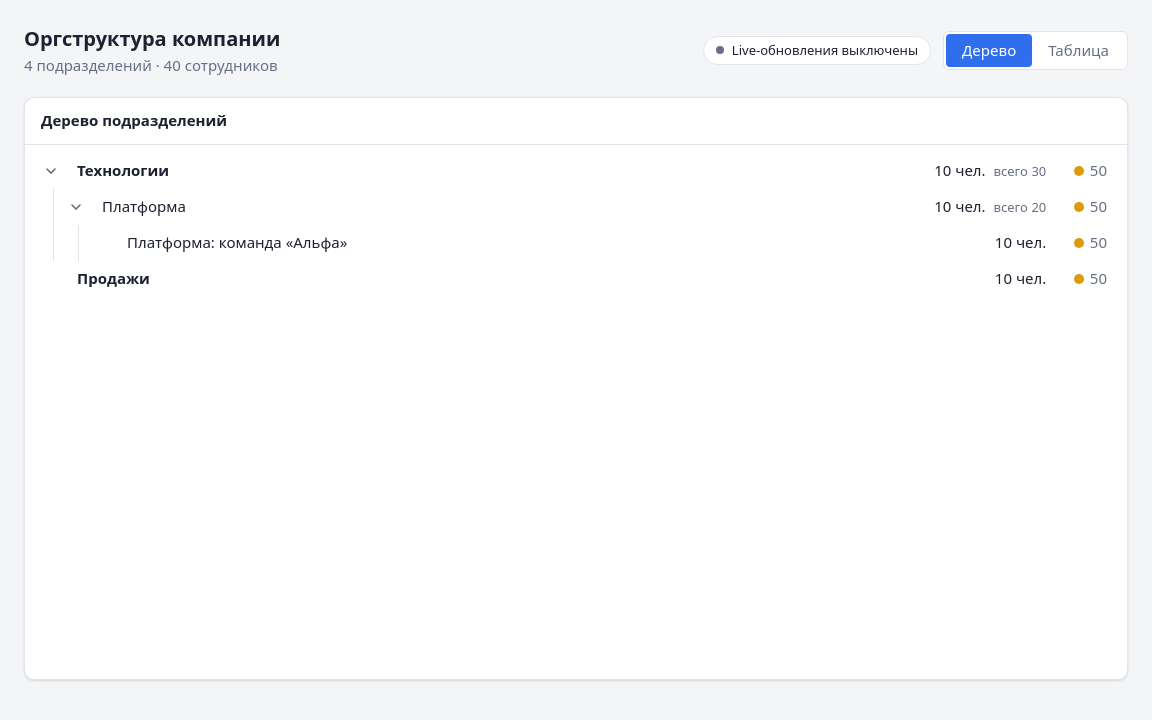
Dashboard: вкладки (<1280px) › рендерит только активную вкладку и сохраняет выбор и поиск при переключении
Expected: the list named "Оргструктура" is shown, [25,144,1127,304]
Click the button "Таблица". click: {"x": 1079, "y": 50}
box: [1032,34,1125,67]
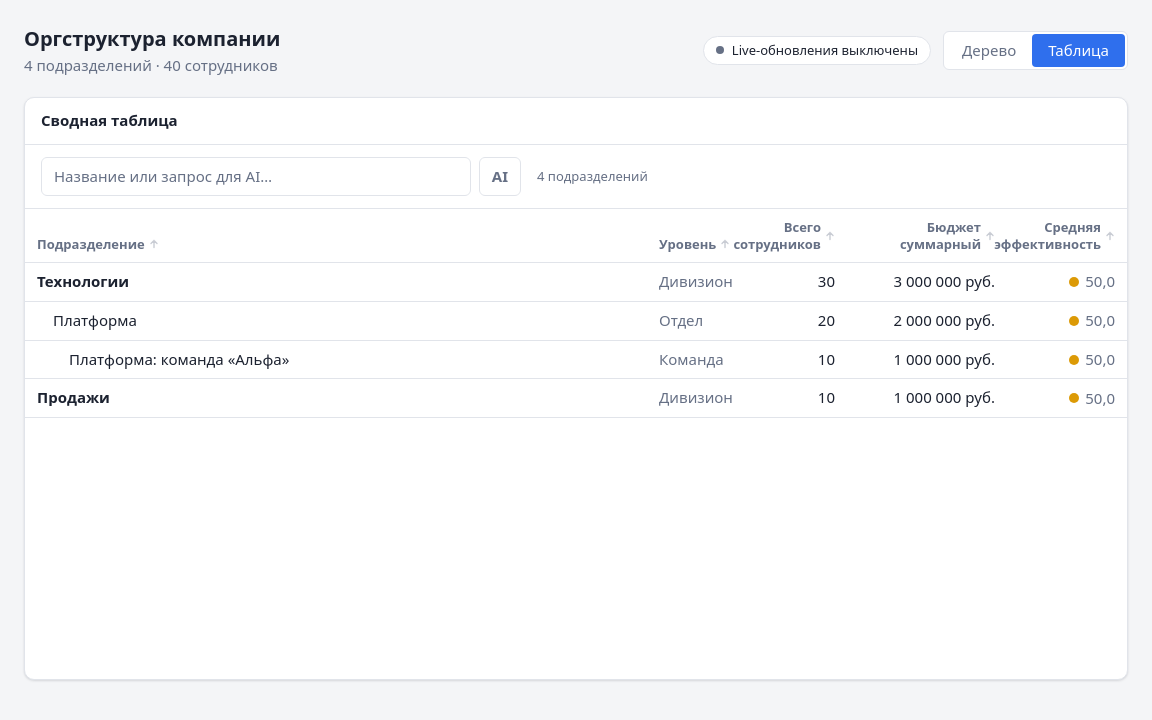
Type "альфа" into the search field. click: {"x": 256, "y": 176}
box: [41,156,471,196]
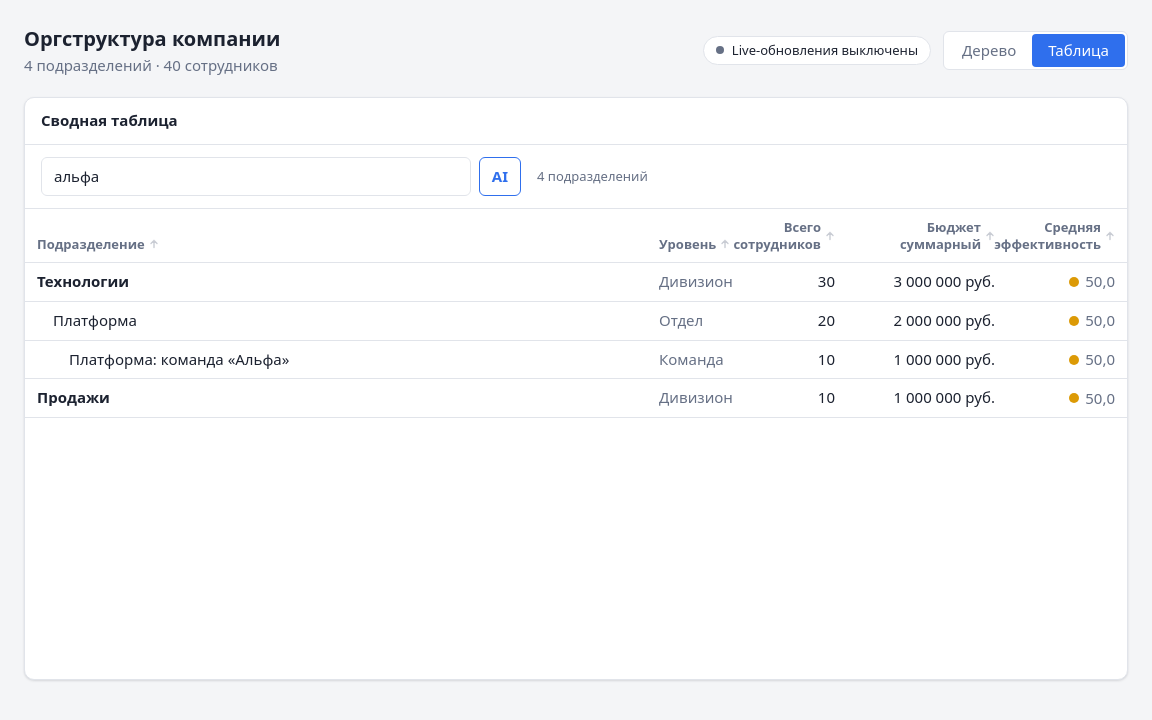
Click the cell "Платформа: команда «Альфа»". click: {"x": 336, "y": 360}
box: [25,340,647,379]
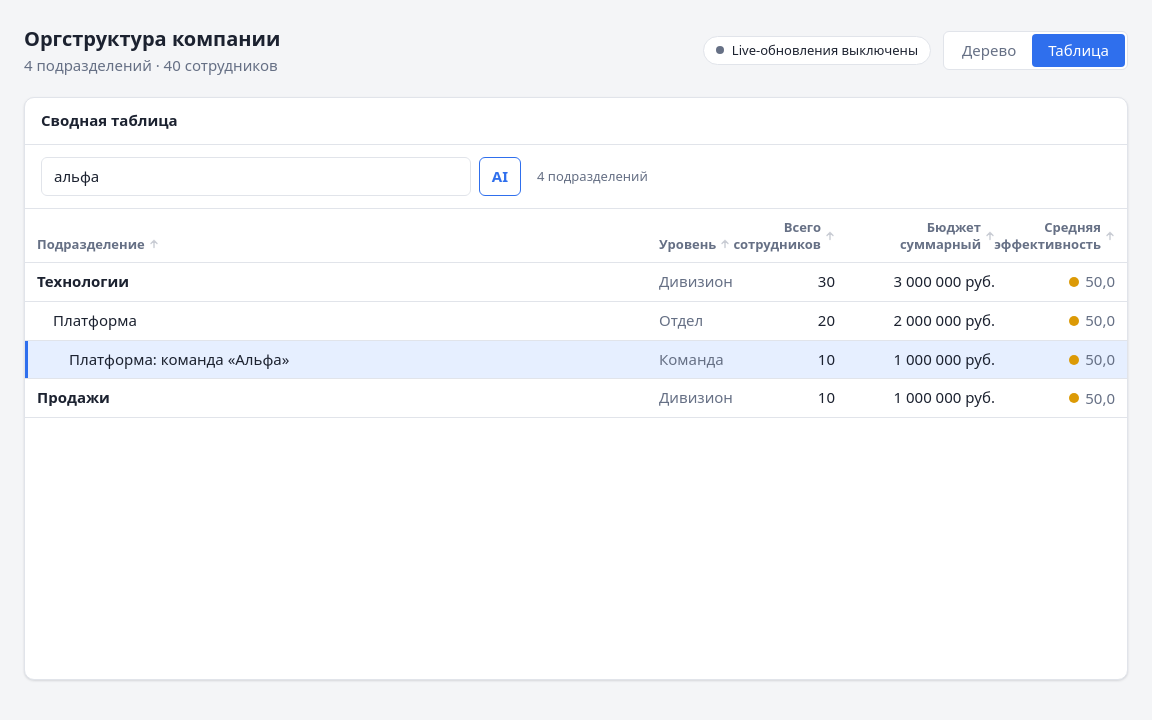
Expected: the button "Таблица" is pressed, [1032,34,1125,67]
Click the button "Дерево". click: {"x": 989, "y": 50}
box: [946,34,1032,67]
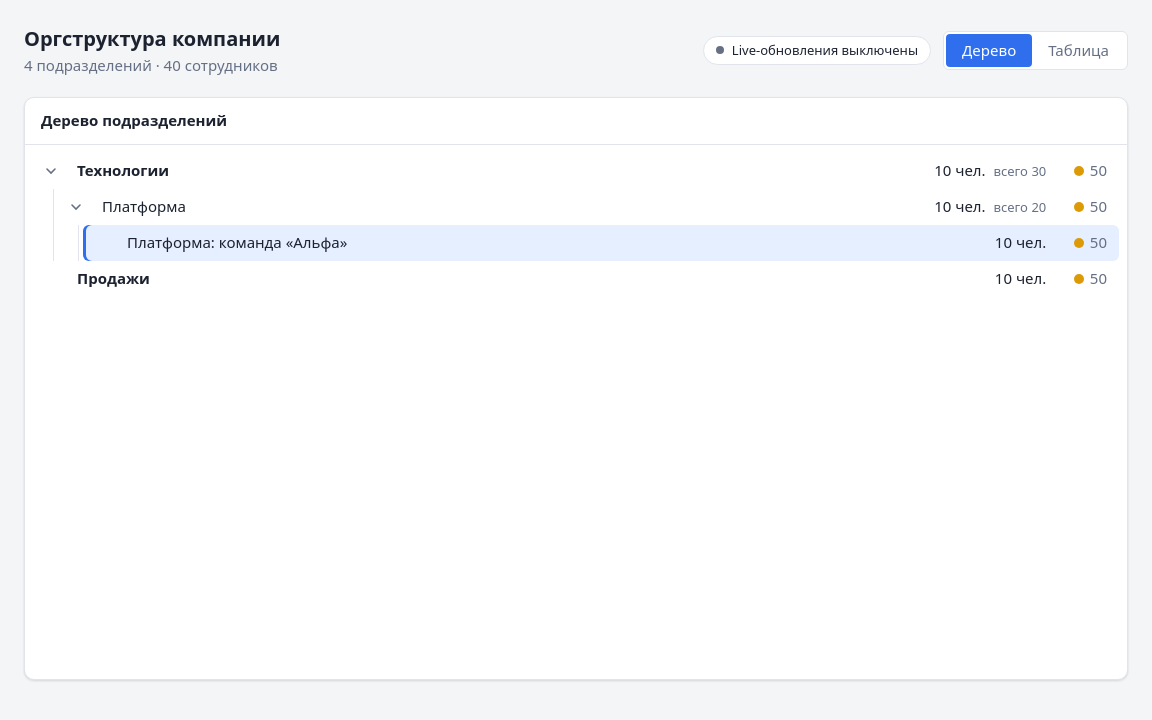
Expected: the element showing "Платформа: команда «Альфа» 10 чел. 50" is shown, [83,224,1119,260]
Click the button "Таблица". click: {"x": 1079, "y": 50}
box: [1032,34,1125,67]
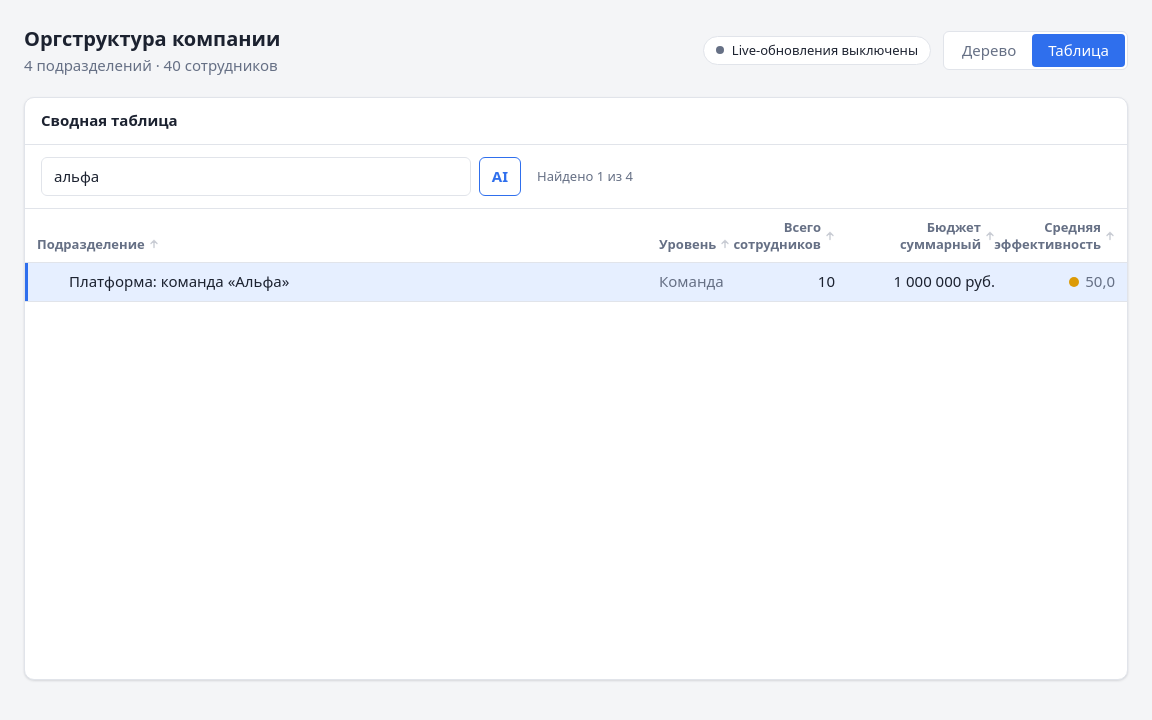
Expected: the search field holds "альфа", [41,156,471,196]
